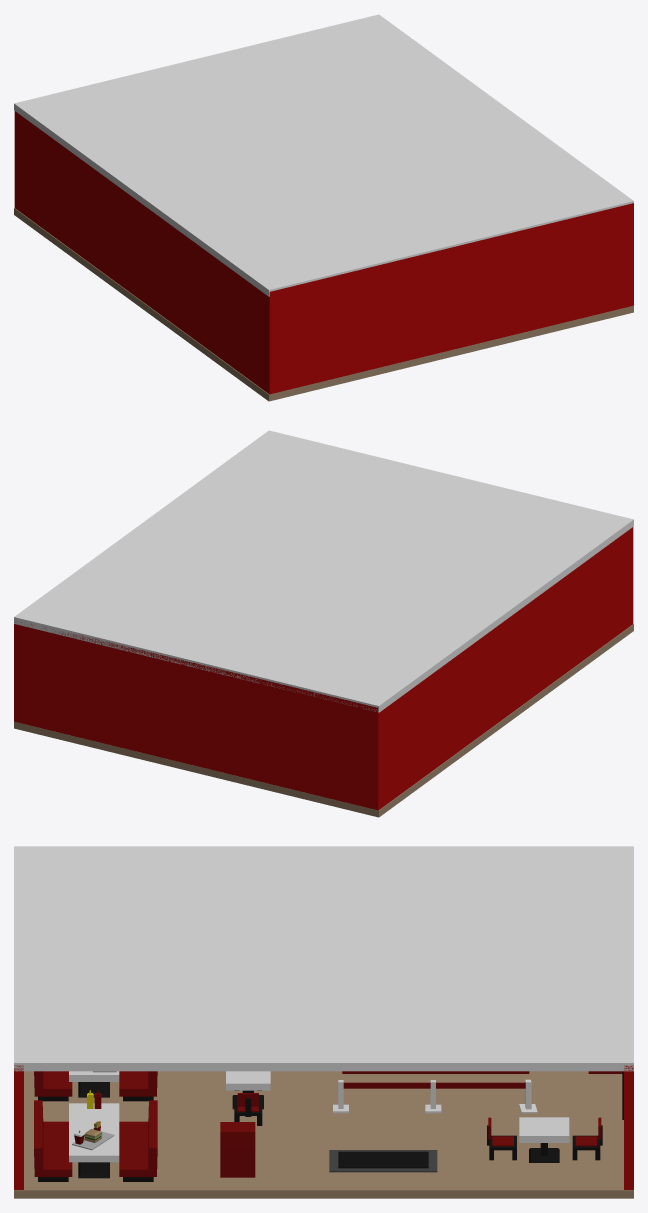
Rendered from Block Test.fbx.
The picture shows the model from 3 angles, top to bottom: view 1: azimuth 30°, elevation 25°; view 2: azimuth 150°, elevation 25°; view 3: azimuth 270°, elevation 25°; orthographic projection. The views are drawn at different scales.
Visible parts, largest first — view 1: Fast_Food_Floor1, Fast_Food_Wall, Fast_Food_Floor; view 2: Fast_Food_Floor1, Fast_Food_Wall, Fast_Food_Floor; view 3: Fast_Food_Floor1, Fast_Food_Floor, Chair (×2), Chair1 (×2), Fast_Food_Wall, Table2, Bin, Mat_Part, Table_Small, Divider, Welcome_Mat, Table_Stand (×2) (+3 smaller).
Part boxes in pixels (x1,y1,x2,y2): Fast_Food_Floor1: [14, 14, 633, 296]; Fast_Food_Wall: [14, 111, 633, 394]; Fast_Food_Floor: [14, 208, 633, 401]; Fast_Food_Floor1: [14, 430, 633, 712]; Fast_Food_Wall: [14, 527, 633, 810]; Fast_Food_Floor: [14, 624, 633, 817]; Fast_Food_Floor1: [14, 846, 633, 1071]; Fast_Food_Floor: [14, 1071, 633, 1198]; Chair (×2): [119, 1071, 157, 1176]; Chair1 (×2): [34, 1071, 72, 1176]; Fast_Food_Wall: [14, 1065, 633, 1189]; Table2: [69, 1103, 119, 1162]; Bin: [220, 1122, 255, 1177]; Mat_Part: [338, 1151, 428, 1168]; Table_Small: [519, 1117, 569, 1142]; Divider: [343, 1082, 525, 1088]; Welcome_Mat: [329, 1150, 437, 1172]; Table_Stand (×2): [78, 1143, 559, 1178].
Size of the model in its own units: 0.8862 by 0.2587 by 1.07.
